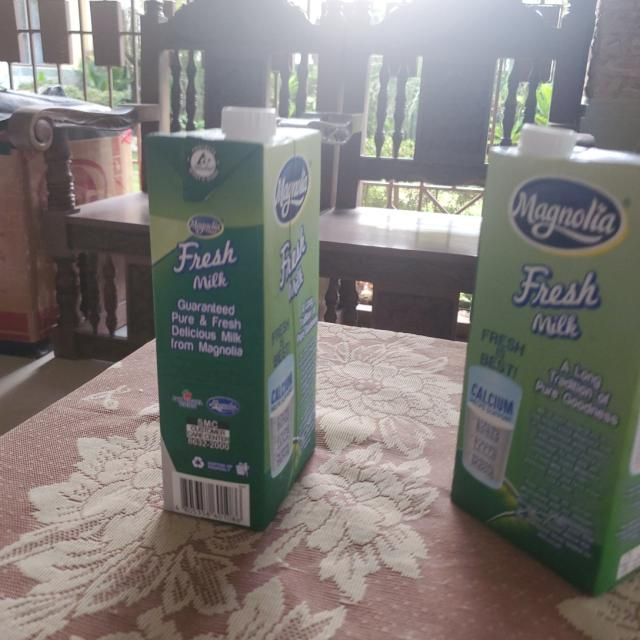milk: (450, 123, 640, 586), (146, 107, 324, 524)
